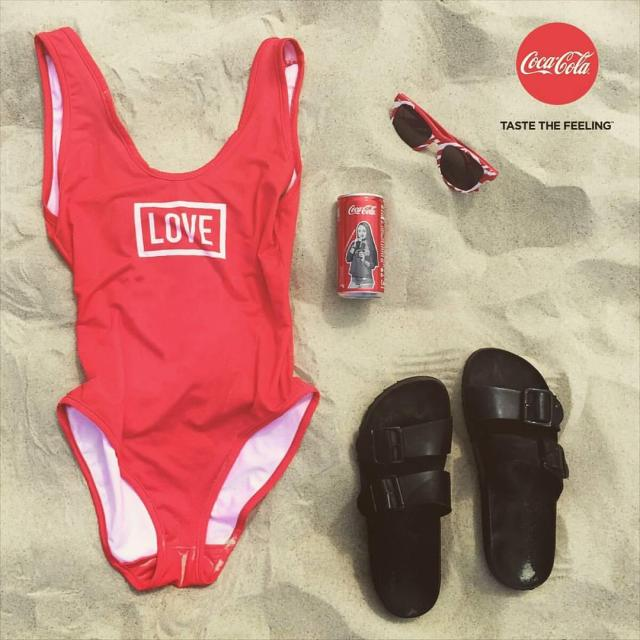coca-cola: (334, 191, 386, 300)
